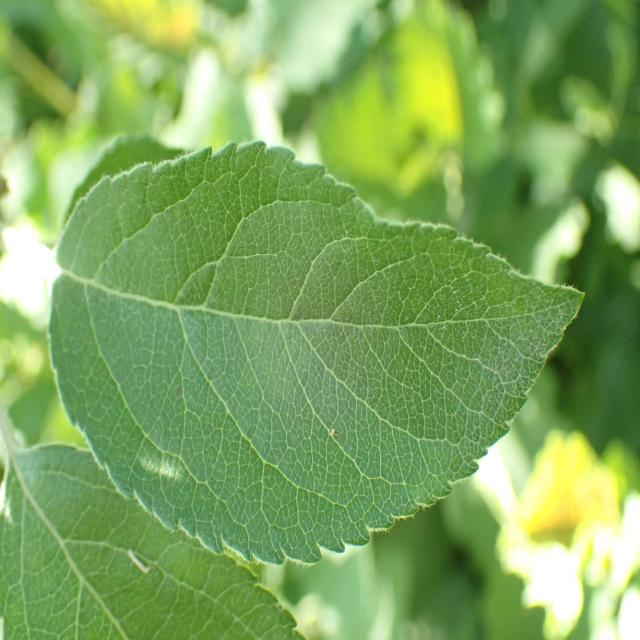healthy: (51, 138, 585, 568), (1, 441, 309, 640)
